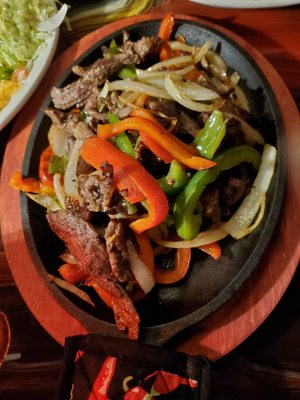curry: (0, 0, 67, 129)
sushi: (2, 11, 296, 367)
